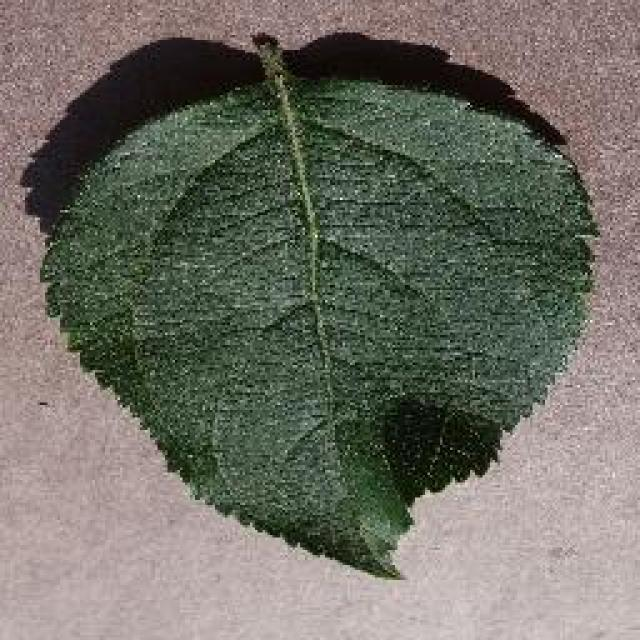apple healthy: (35, 28, 603, 580)
